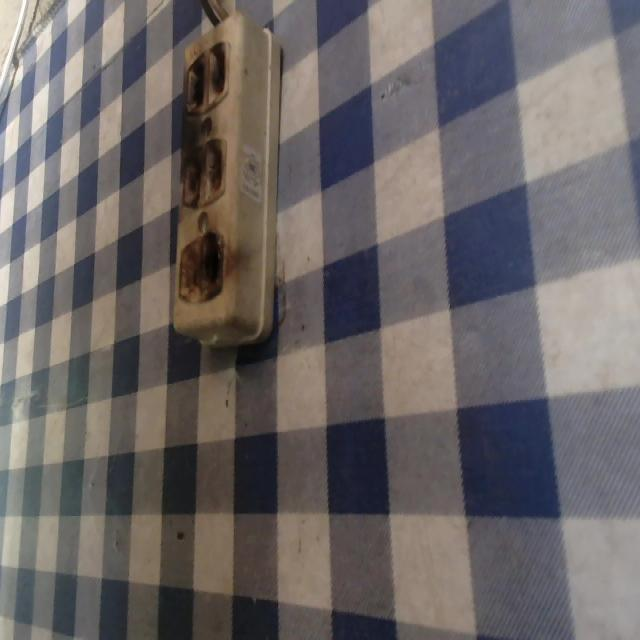-: (181, 36, 232, 115), (175, 226, 225, 302), (180, 133, 228, 211)
